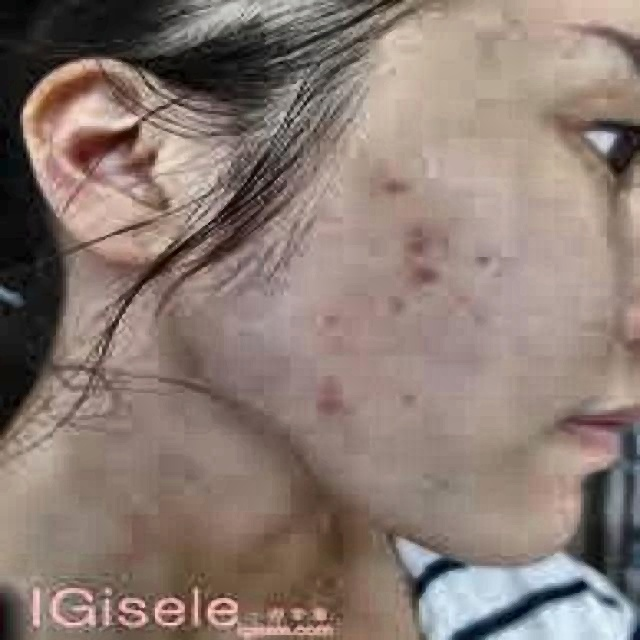comedone: (310, 380, 370, 432), (379, 218, 452, 255), (386, 257, 445, 297), (370, 163, 426, 200)
